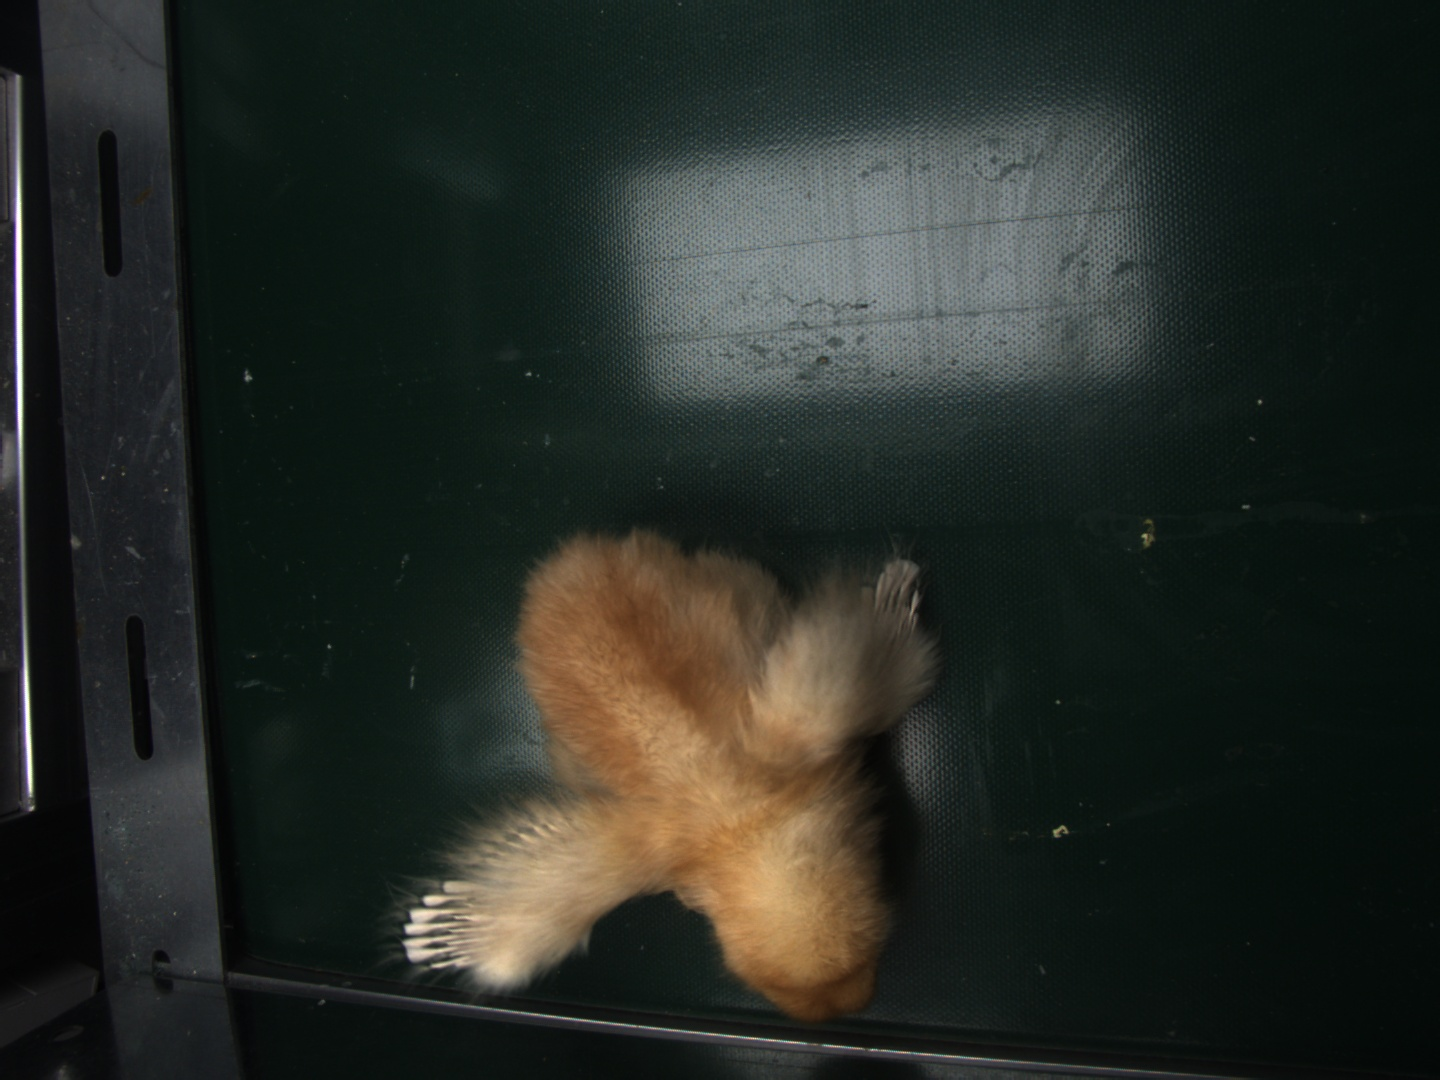female: (399, 885, 485, 981)
